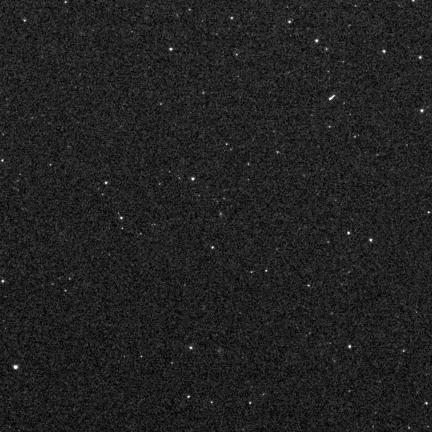blob: (13, 365, 18, 369), (382, 50, 386, 53), (192, 178, 196, 181), (315, 39, 318, 43), (347, 232, 351, 235), (169, 48, 172, 51)
